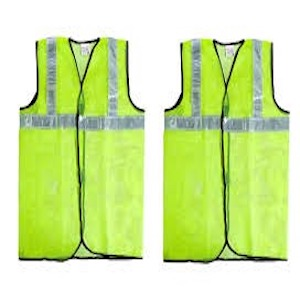vest: (164, 40, 291, 264), (20, 39, 145, 261)
